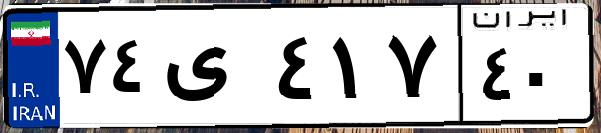0: (525, 38, 570, 115)
1: (330, 28, 385, 110)
4: (270, 28, 330, 110), (475, 38, 525, 113), (110, 28, 158, 98)
7: (385, 28, 445, 110), (57, 26, 110, 100)
ی: (158, 20, 270, 120)
